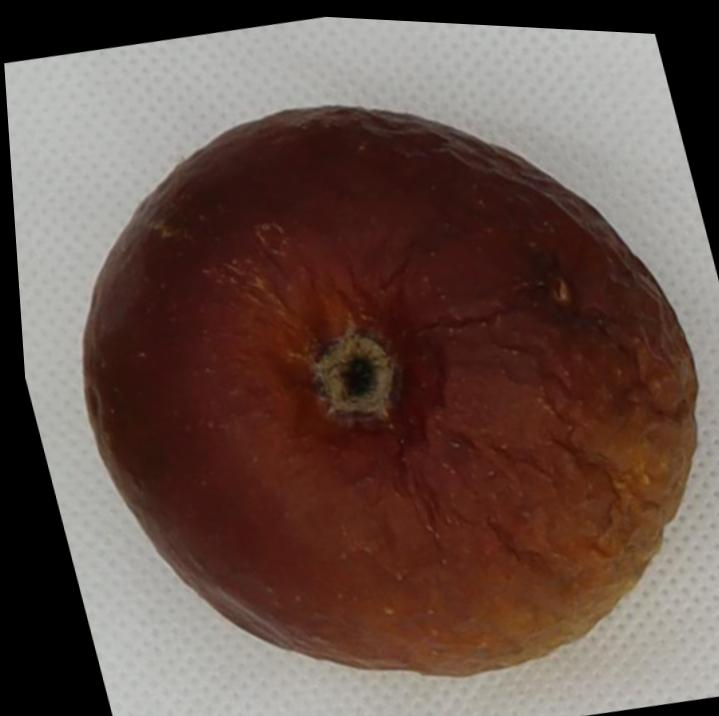apple: (83, 105, 696, 675)
rot_mold_decay: (83, 105, 695, 675)
surface_damage: (550, 278, 570, 302)
